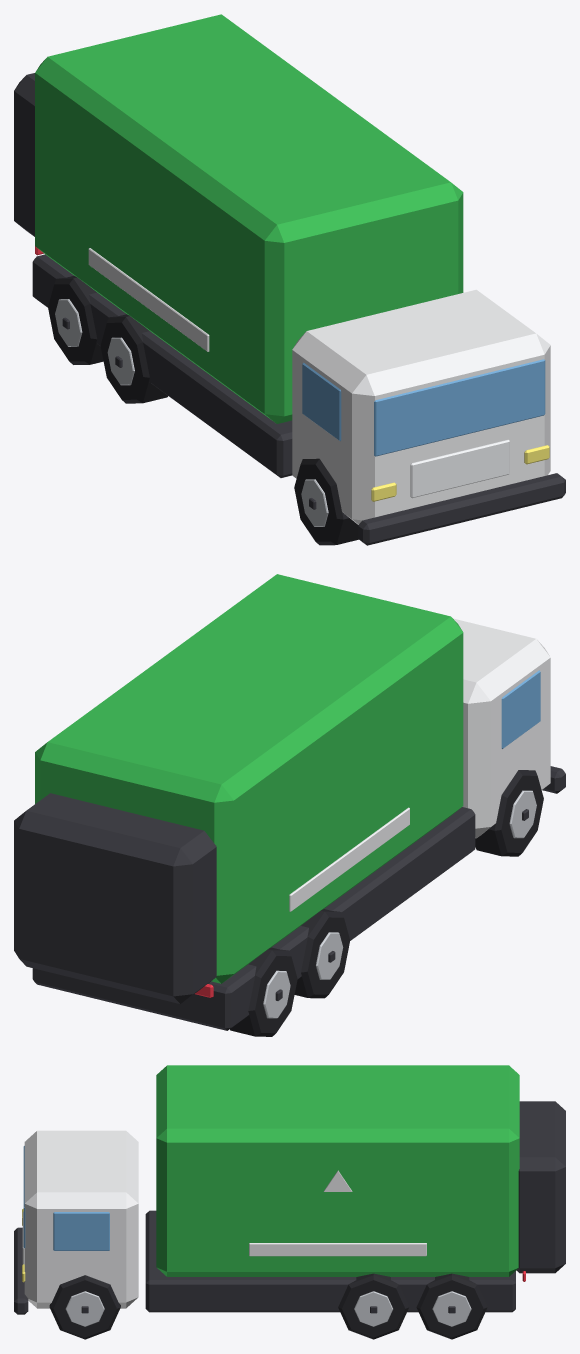
File: GarbageTruck.fbx
3 renders of one model, top to bottom at view 1: azimuth 30°, elevation 25°; view 2: azimuth 150°, elevation 25°; view 3: azimuth 270°, elevation 25°, orthographic. The views are drawn at different scales.
Visible parts, largest first — view 1: GarbageTruck, GarbageTruck_WheelMR, GarbageTruck_WheelFR, GarbageTruck_WheelBR; view 2: GarbageTruck, GarbageTruck_WheelBR, GarbageTruck_WheelFR, GarbageTruck_WheelMR; view 3: GarbageTruck, GarbageTruck_WheelML, GarbageTruck_WheelBL, GarbageTruck_WheelFL.
Part boxes in pixels (x1,y1,x2,y2): GarbageTruck: (14,14,565,545); GarbageTruck_WheelMR: (100,314,167,403); GarbageTruck_WheelFR: (294,458,358,545); GarbageTruck_WheelBR: (48,275,103,364); GarbageTruck: (14,574,565,1030); GarbageTruck_WheelBR: (230,947,297,1036); GarbageTruck_WheelFR: (475,770,543,856); GarbageTruck_WheelMR: (294,909,350,998); GarbageTruck: (14,1065,565,1314); GarbageTruck_WheelML: (338,1273,409,1339); GarbageTruck_WheelBL: (416,1273,487,1339); GarbageTruck_WheelFL: (49,1275,120,1339).
Size of the model in its own units: 5.22 by 6.4 by 15.5.
Materials: 1 (1 with a texture image).
